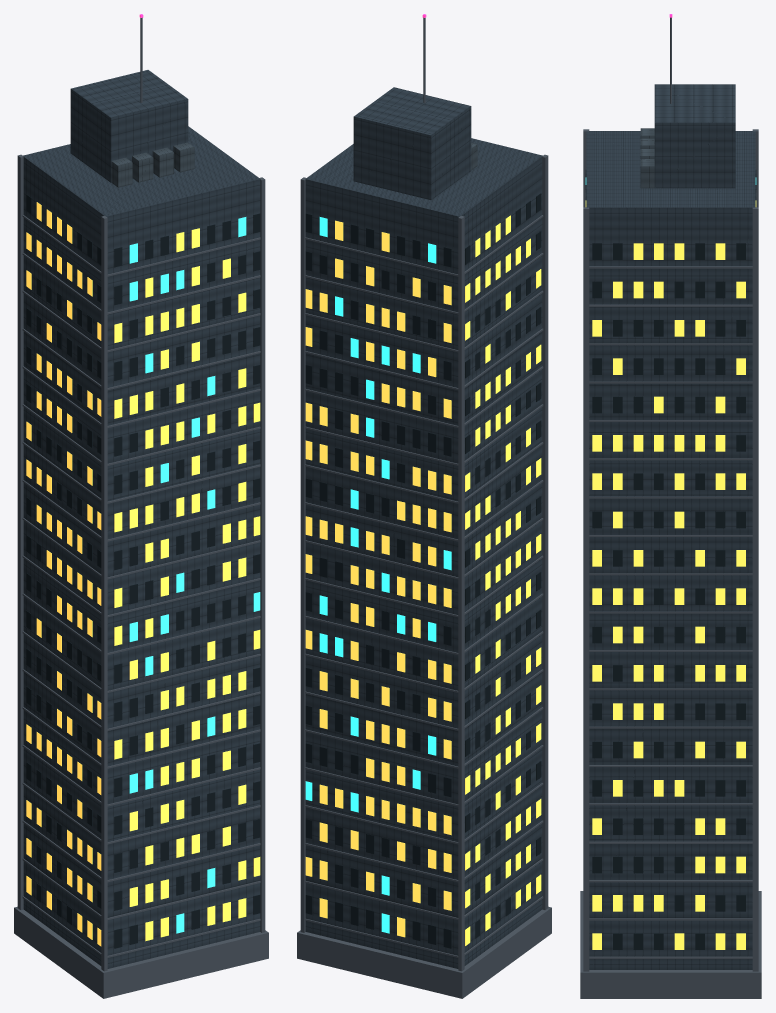
The model's file is tower-relay.glb.
3 renders of one model, left to right at view 1: azimuth 30°, elevation 25°; view 2: azimuth 150°, elevation 25°; view 3: azimuth 270°, elevation 25°, orthographic.
Parts seen in each view (by area): view 1: tower-relay; view 2: tower-relay; view 3: tower-relay.
Boxes of the visible parts, x1,y1,x2,y2 form: tower-relay: (14, 14, 268, 998); tower-relay: (297, 14, 551, 998); tower-relay: (580, 14, 761, 998).
Bounding box in the file's own units: 16 × 86.12 × 15.
Materials: 7 (2 with a texture image).
